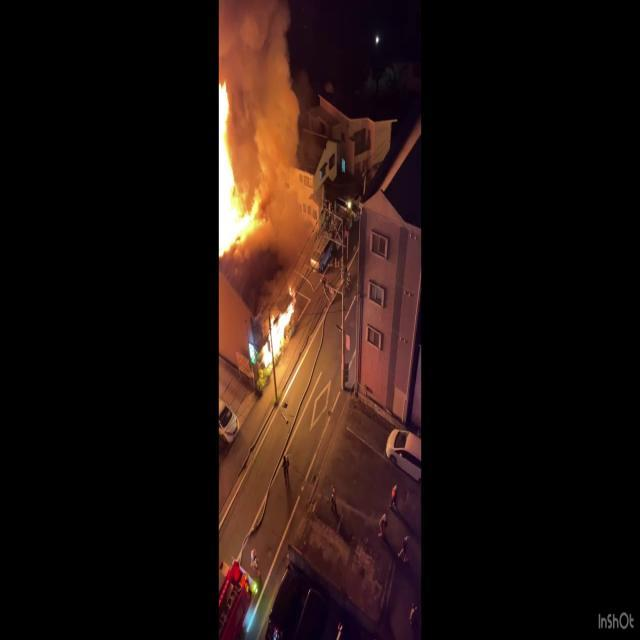Fire: (218, 70, 260, 260), (258, 292, 296, 378)
Smoke: (220, 0, 310, 167)
